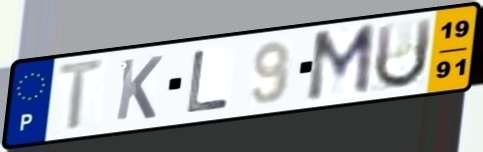9: (250, 39, 297, 107)
K: (112, 54, 165, 123)
L: (183, 48, 232, 116)
M: (303, 21, 379, 106)
T: (53, 56, 110, 135)
U: (370, 15, 436, 93)
